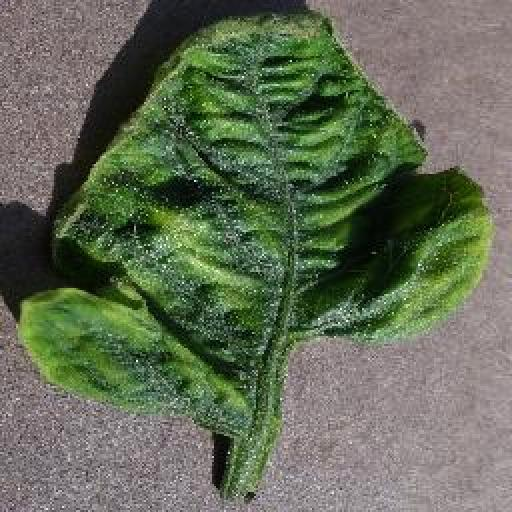disease_tomato: (16, 6, 490, 422)
